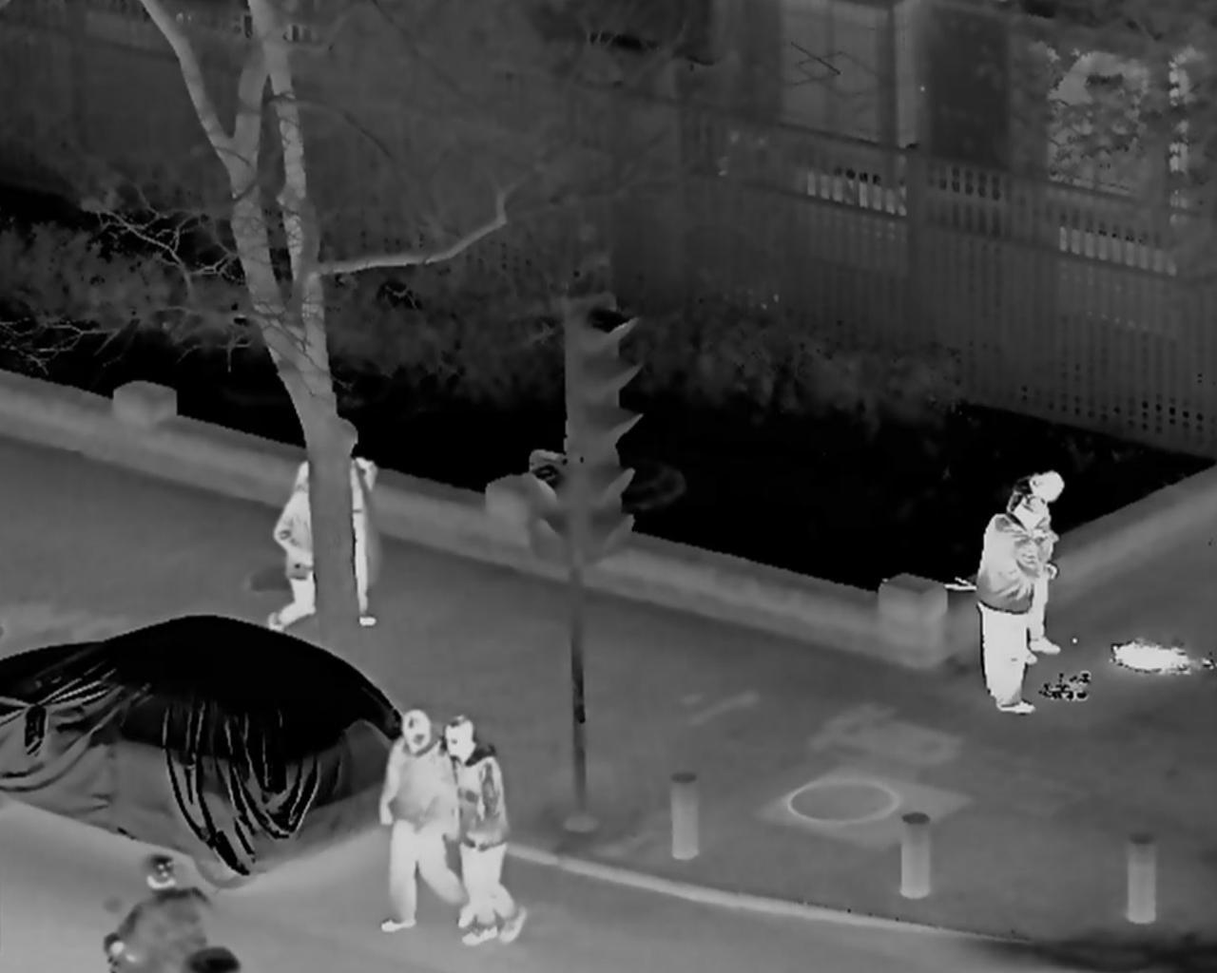person: (376, 713, 471, 935), (438, 715, 525, 944), (975, 497, 1048, 717), (265, 459, 343, 639), (1004, 467, 1067, 671), (109, 851, 208, 973)
